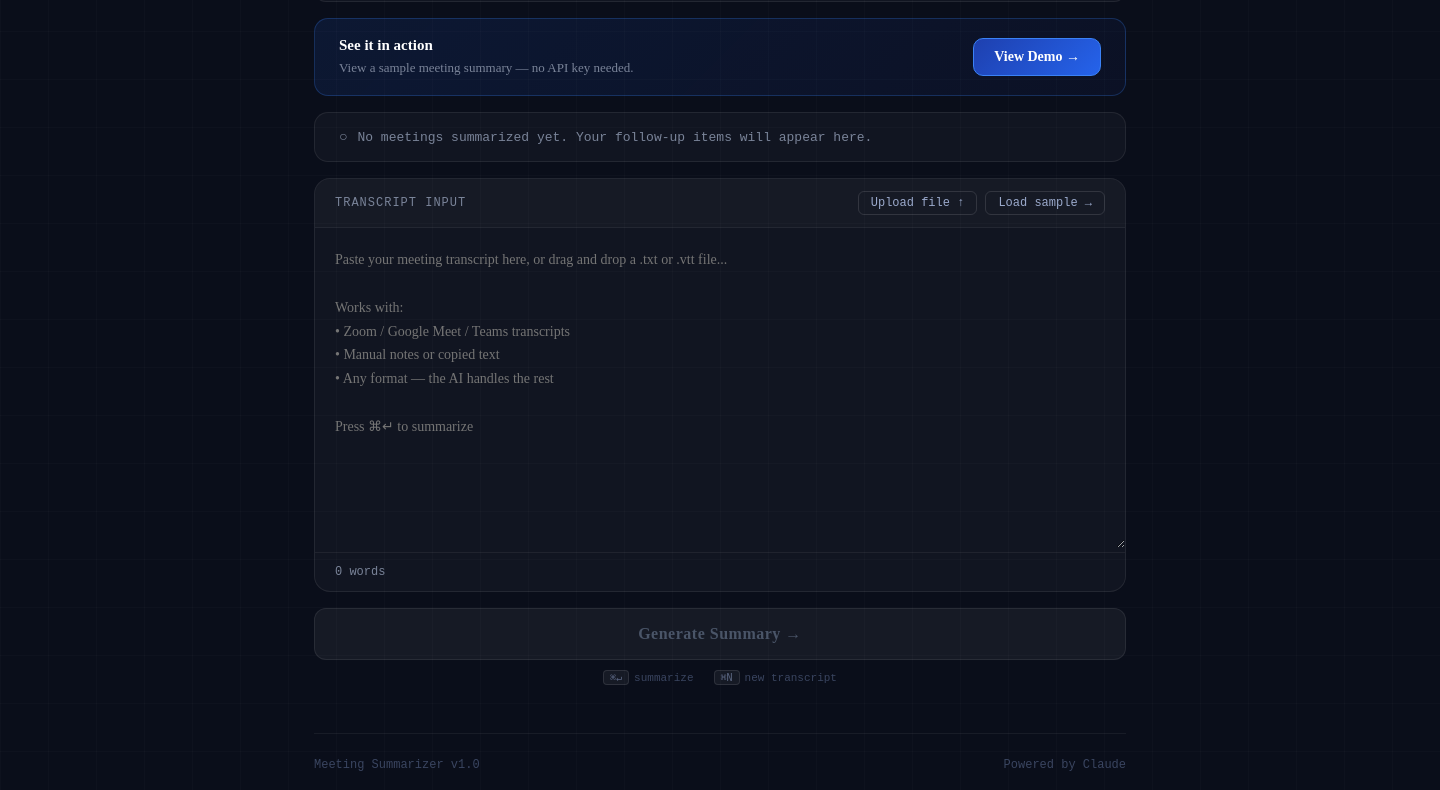
Test case: summarize: API error handling › shows "Rate limit exceeded" error on 429
The image size is (1440, 790).
(page scrolled)
Replace the text in the text box with placeholder "Paste your meeting transcript" with "Some transcript content" at (720, 388), box [315,228,1125,548]
(page scrolled)
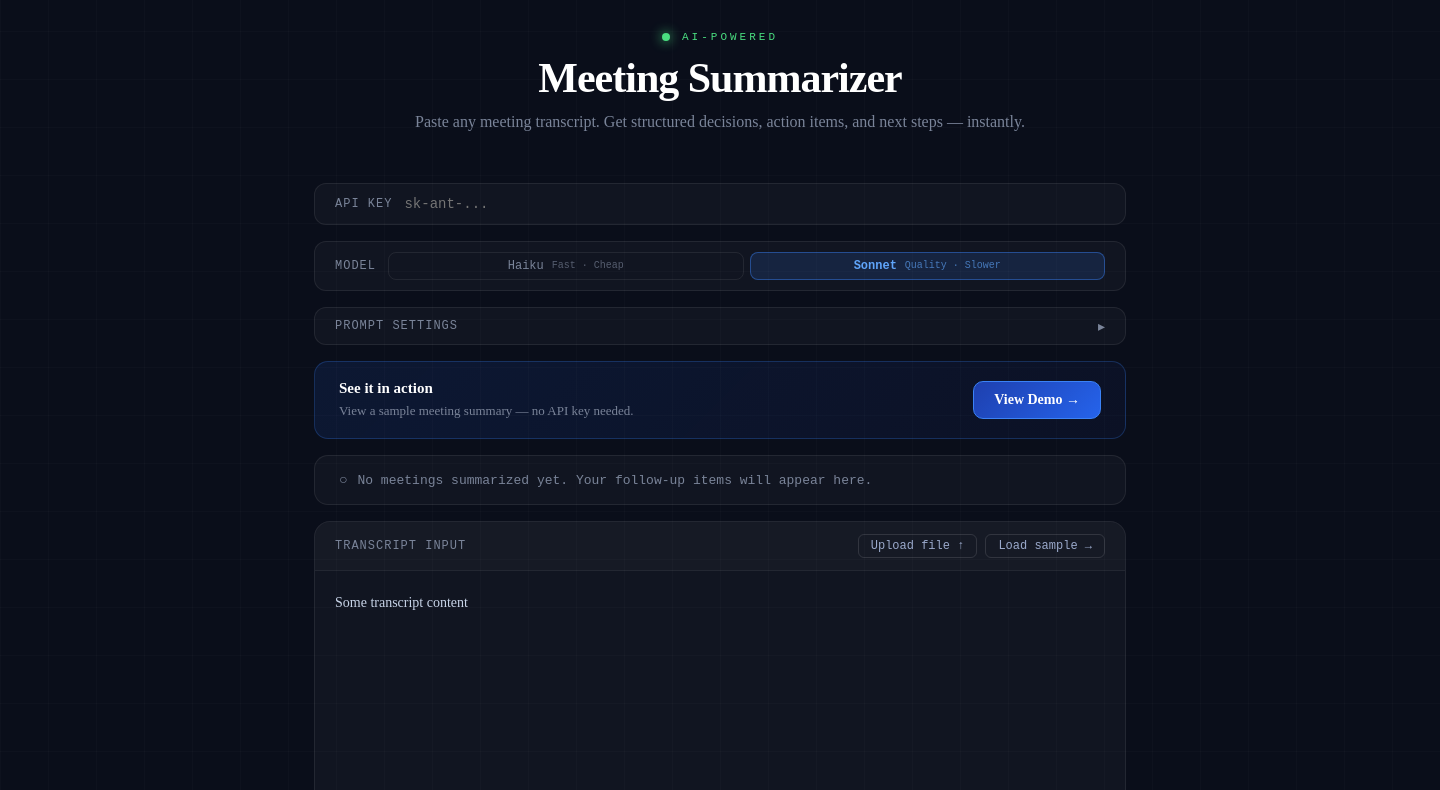
Type "sk-ant-test" into the password field with placeholder "sk-ant-...".
click(755, 204); type("sk-ant-test")  # box [404,196,1105,212]
(page scrolled)
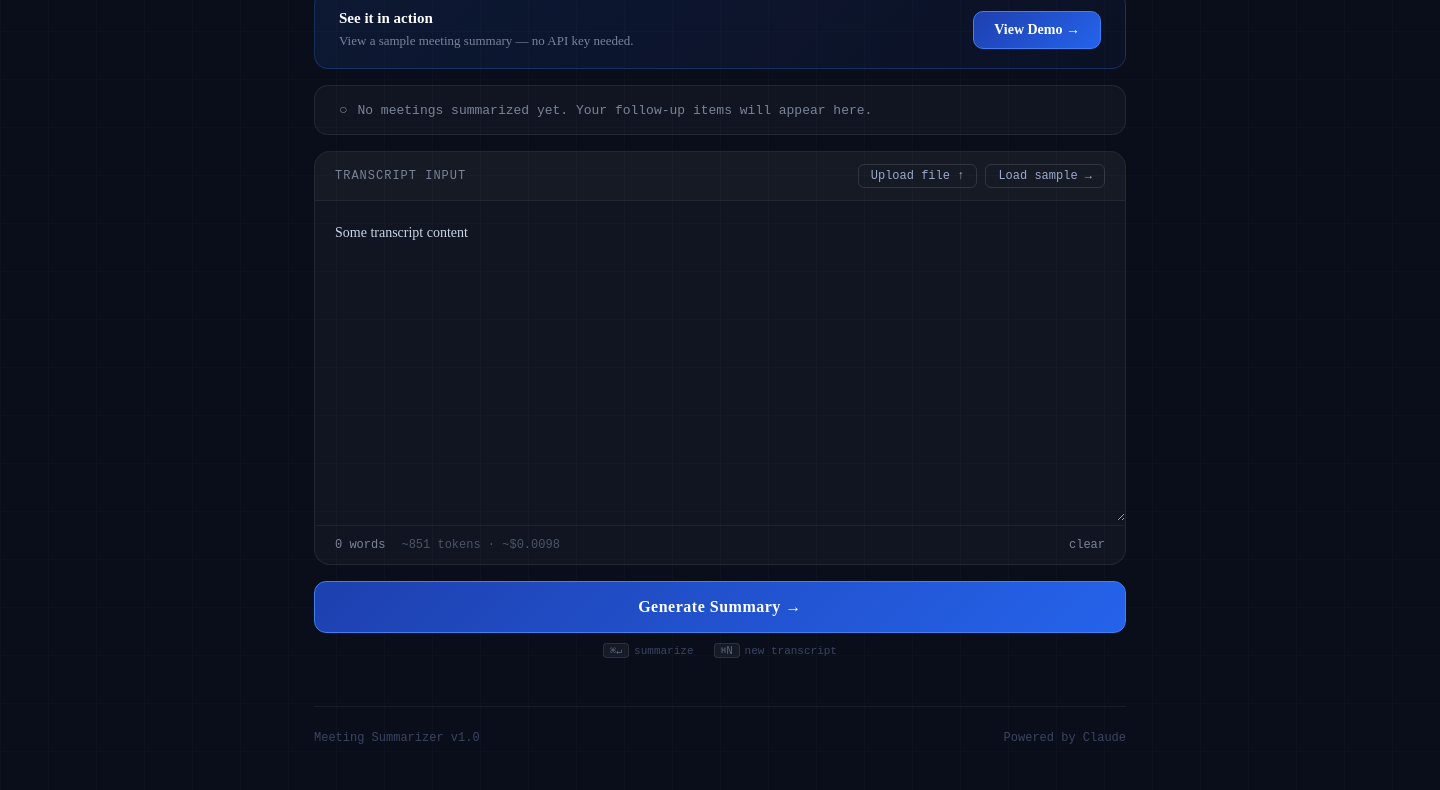
Click the button "Generate Summary →".
click(720, 607)  # box [314,581,1126,633]
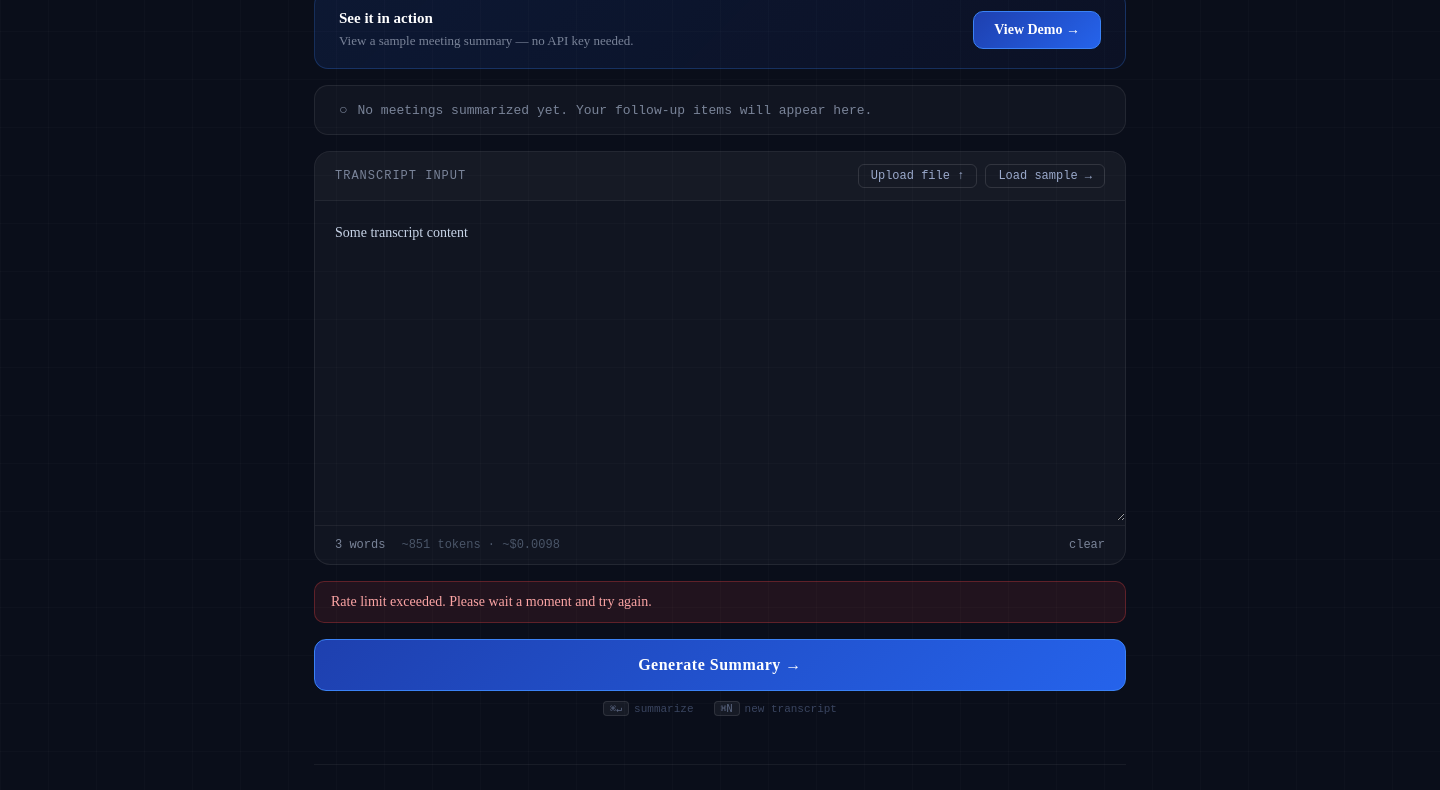
Expected: the text "Rate limit exceeded. Please wait a moment and try again." is shown, [314,581,1126,623]
